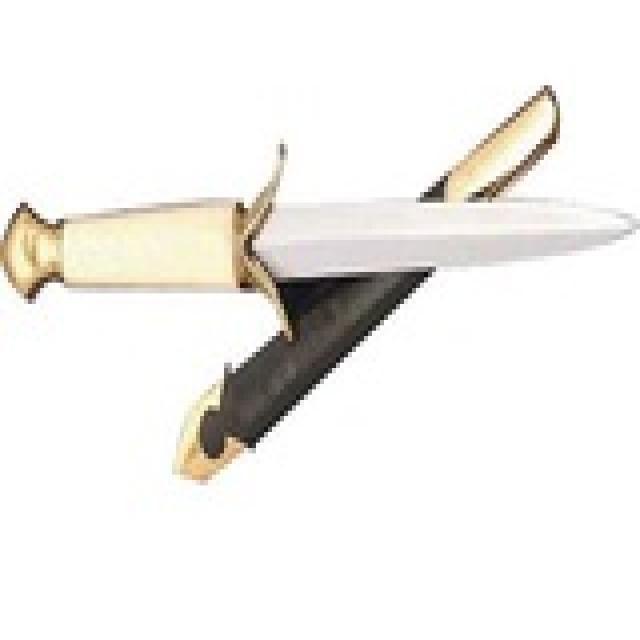Knife: (1, 173, 640, 299)
